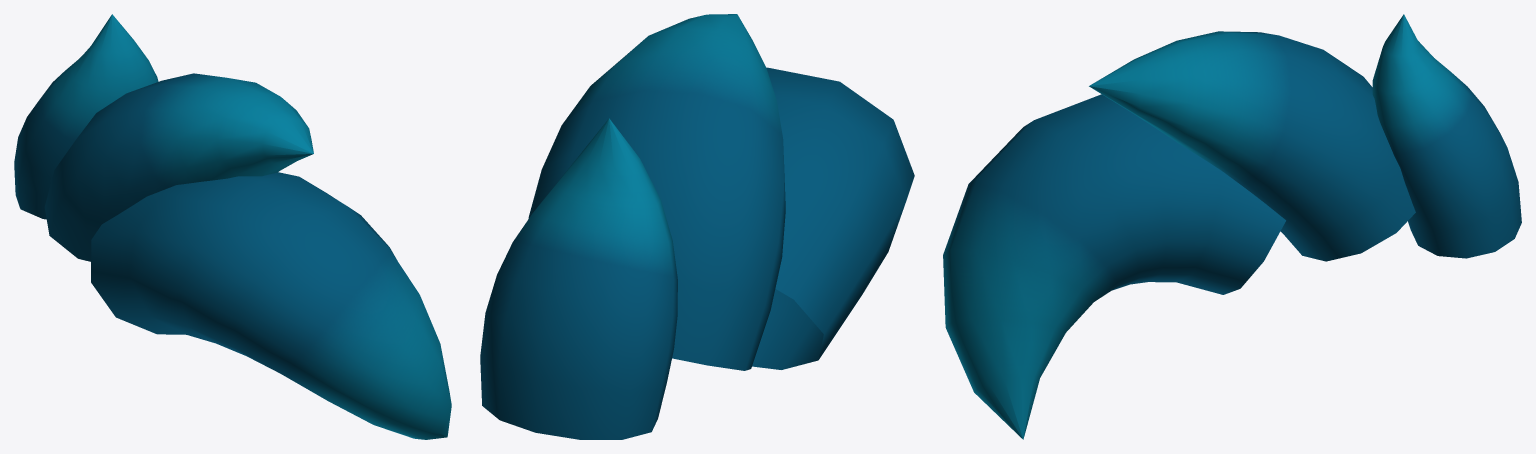
Rendered from ChitioHairDefault.fbx.
3 views of the same model, side by side, from view 1: azimuth 30°, elevation 25°; view 2: azimuth 150°, elevation 25°; view 3: azimuth 270°, elevation 25° (orthographic). The views are drawn at different scales.
Visible parts, largest first — view 1: HairDefault; view 2: HairDefault; view 3: HairDefault.
Boxes of the visible parts, x1,y1,x2,y2 form: HairDefault: (14, 14, 451, 439); HairDefault: (480, 14, 914, 439); HairDefault: (943, 14, 1521, 439).
Size of the model in its own units: 0.0802 by 0.1019 by 0.1544.
